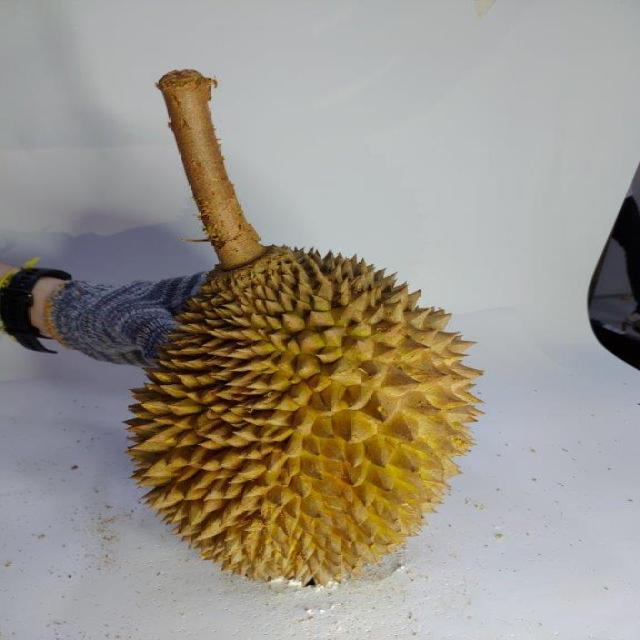mature: (129, 247, 481, 587)
